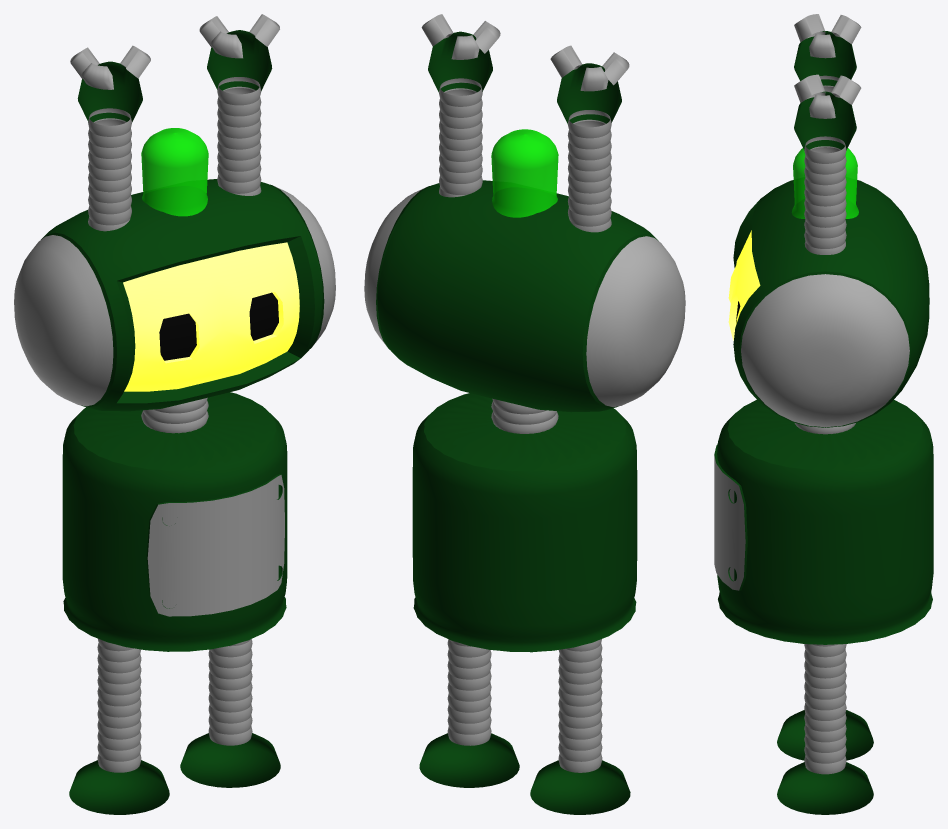
File: GreenRobot.fbx
3 renders of one model, left to right at view 1: azimuth 30°, elevation 25°; view 2: azimuth 150°, elevation 25°; view 3: azimuth 270°, elevation 25°, orthographic. The views are drawn at different scales.
Parts seen in each view (by area): view 1: Sphere, Cylinder, Circle.003, Circle.004, Circle.005, Circle.001, Circle.007, Circle.002, Circle.006, Circle; view 2: Sphere, Cylinder, Circle.003, Circle.004, Circle.005, Circle.001, Circle.007, Circle.006, Circle.002, Circle; view 3: Cylinder, Sphere, Circle.004, Circle.003, Circle.007, Circle.006, Circle.002, Circle.005.
Part boxes in pixels (box(x1,y1,x2,y2)): Sphere: box(14, 179, 335, 411); Cylinder: box(62, 392, 287, 651); Circle.003: box(97, 638, 252, 772); Circle.004: box(69, 733, 280, 814); Circle.005: box(141, 128, 208, 216); Circle.001: box(88, 108, 131, 231); Circle.007: box(217, 77, 261, 195); Circle.002: box(70, 45, 150, 122); Circle.006: box(199, 14, 279, 91); Circle: box(141, 397, 208, 433); Sphere: box(364, 180, 685, 412); Cylinder: box(412, 393, 637, 652); Circle.003: box(447, 639, 602, 772); Circle.004: box(419, 733, 630, 814); Circle.005: box(491, 129, 558, 217); Circle.001: box(567, 110, 611, 232); Circle.007: box(439, 78, 482, 197); Circle.006: box(421, 14, 500, 92); Circle.002: box(550, 45, 629, 123); Circle: box(491, 398, 558, 433); Cylinder: box(714, 400, 933, 644); Sphere: box(728, 180, 929, 427); Circle.004: box(777, 710, 873, 814); Circle.003: box(804, 644, 846, 774); Circle.007: box(804, 136, 846, 254); Circle.006: box(794, 74, 861, 150); Circle.002: box(794, 14, 861, 86); Circle.005: box(791, 148, 858, 218).
Size of the model in its own units: 245 by 348 by 879.
